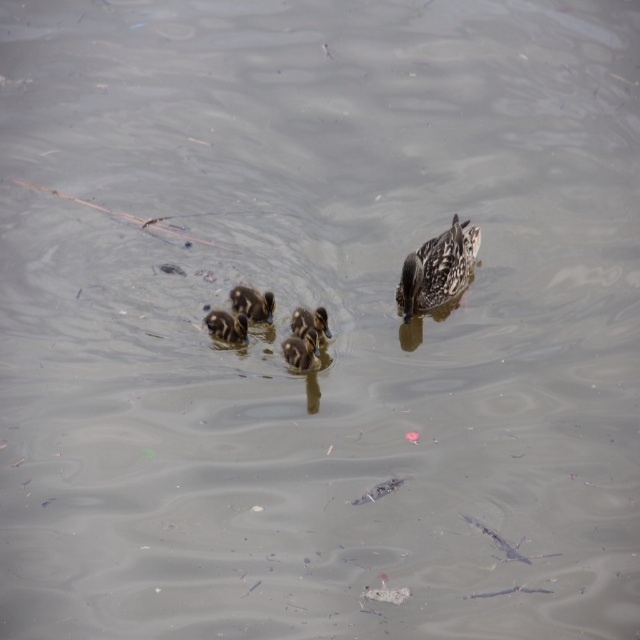Duck: (388, 208, 479, 336), (282, 325, 326, 376), (230, 282, 276, 326), (199, 309, 253, 342), (288, 306, 328, 344)
